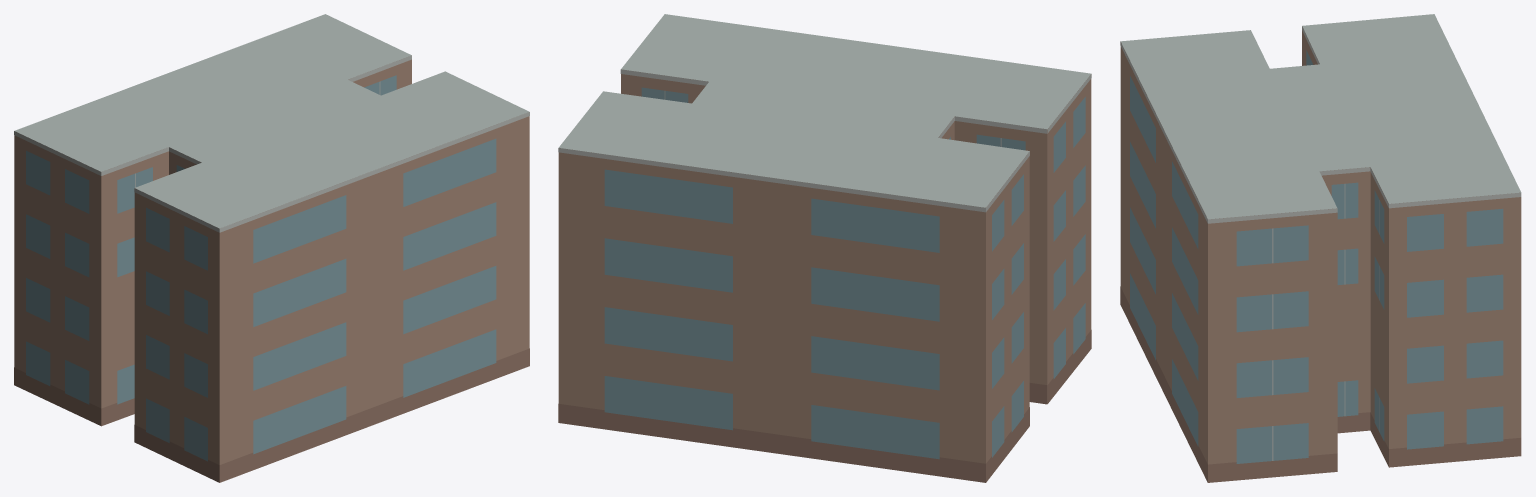
Rendered from survey-upis-32635846.glb.
The picture shows the model from 3 angles, left to right: view 1: azimuth 30°, elevation 25°; view 2: azimuth 150°, elevation 25°; view 3: azimuth 270°, elevation 25°; orthographic projection. The views are drawn at different scales.
Visible parts, largest first — view 1: survey-upis-32635846.tmp; view 2: survey-upis-32635846.tmp; view 3: survey-upis-32635846.tmp.
Part boxes in pixels (x1=…): survey-upis-32635846.tmp: x1=14, y1=14, x2=529, y2=482; survey-upis-32635846.tmp: x1=558, y1=14, x2=1091, y2=482; survey-upis-32635846.tmp: x1=1120, y1=14, x2=1521, y2=482.
Size of the model in its own units: 24.58 by 14.7 by 20.28.
